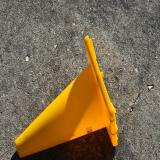cone: (15, 35, 119, 159)
